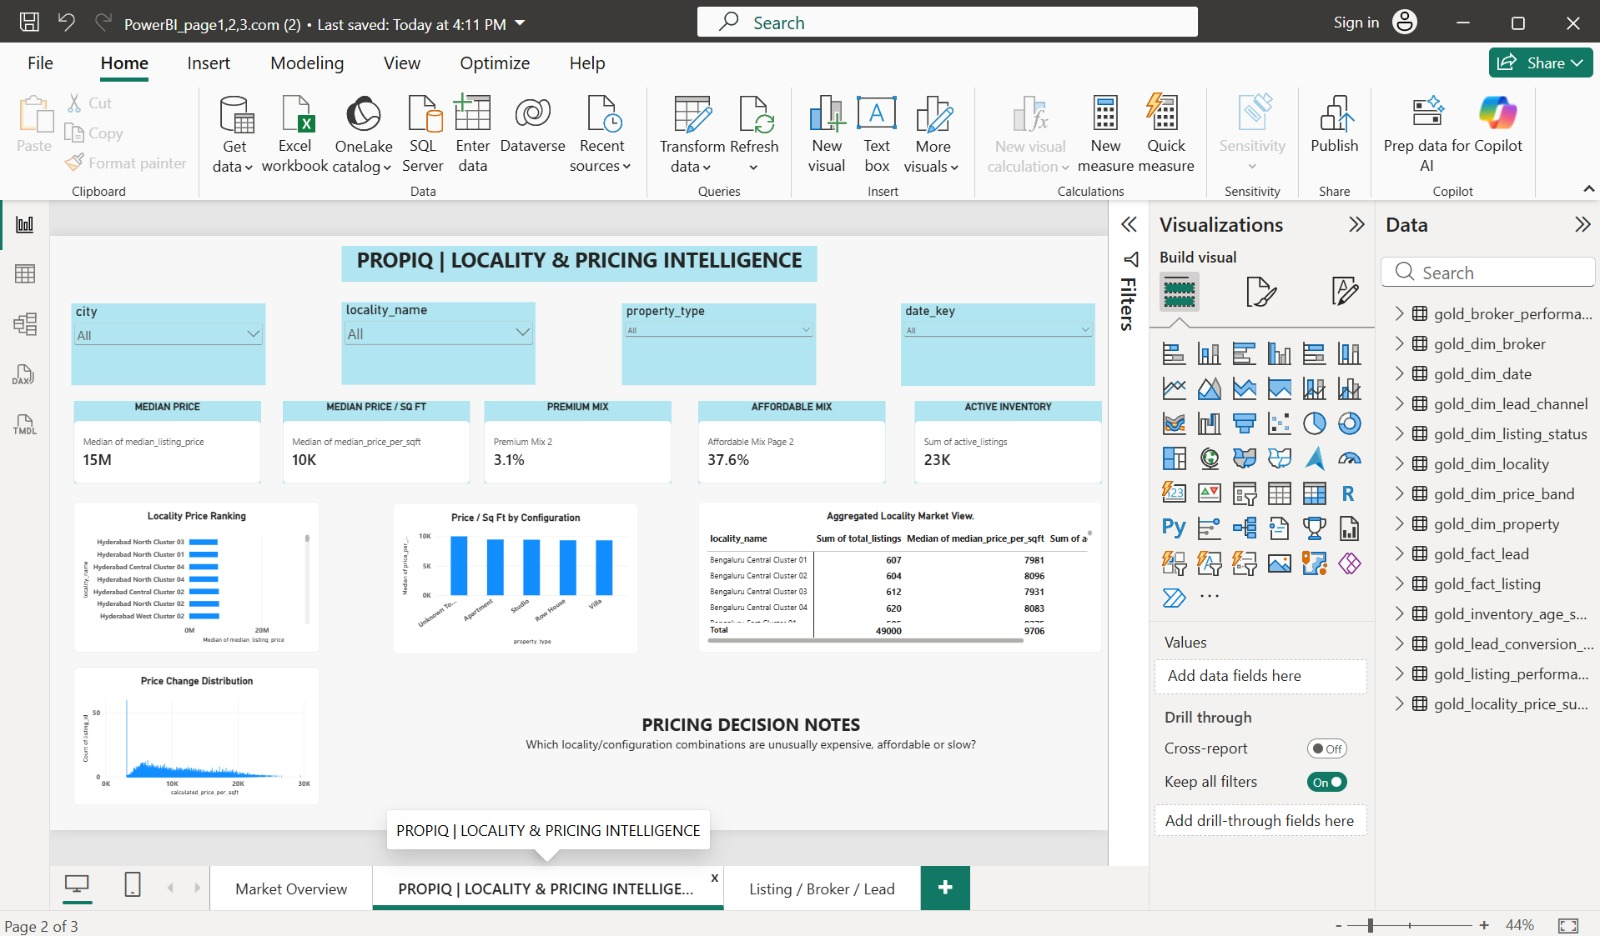

The dashboard page shown, as its layout file describes it:
{"tool":"powerbi","page":{"name":"PROPIQ | LOCALITY & PRICING INTELLIGENCE","canvas":[1920,1080],"ordinal":1},"visuals":[{"type":"textbox","box":[0,0,1920,74],"z":0},{"type":"slicer","fields":{"Values":["gold_dim_locality.city"]},"box":[38,123.1,352.4,148.7],"z":1000},{"type":"slicer","fields":{"Values":["gold_dim_locality.locality_name"]},"box":[528.4,121.2,352,150],"z":2000},{"type":"slicer","fields":{"Values":["gold_dim_property.property_type"]},"box":[1038.7,123.1,352.4,148.7],"z":3000},{"type":"slicer","fields":{"Values":["gold_dim_date.date_key"]},"box":[1543.6,123.1,352.9,150.2],"z":4000},{"type":"cardVisual","title":"MEDIAN PRICE","fields":{"Data":["Median(gold_locality_price_summary.median_listing_price)"]},"box":[43.4,300.4,340,150],"z":5000},{"type":"cardVisual","title":"MEDIAN PRICE / SQ FT","fields":{"Data":["Median(gold_locality_price_summary.median_price_per_sqft)"]},"box":[423.5,300.4,340,150],"z":6000},{"type":"cardVisual","title":"PREMIUM MIX","fields":{"Data":["gold_broker_performance_summary.Premium Mix 2"]},"box":[789,300.4,340,150],"z":7000},{"type":"cardVisual","title":"AFFORDABLE MIX","fields":{"Data":["gold_broker_performance_summary.Affordable Mix Page 2"]},"box":[1176.3,300.4,340,150],"z":8000},{"type":"cardVisual","title":"ACTIVE INVENTORY","fields":{"Data":["Sum(gold_locality_price_summary.active_listings)"]},"box":[1569,300.4,340,150],"z":9000},{"type":"clusteredBarChart","title":"Locality Price Ranking","fields":{"Category":["gold_dim_locality.locality_name"],"Y":["Median(gold_locality_price_summary.median_listing_price)"]},"box":[43.4,483.2,445.2,272.6],"z":10000},{"type":"clusteredColumnChart","title":"Price / Sq Ft by Configuration","fields":{"Category":["gold_dim_property.property_type"],"Y":["Median(gold_fact_listing.price_per_sqft)"]},"box":[622.5,485,445.2,273.3],"z":11000},{"type":"pivotTable","title":"Aggregated Locality Market View.","fields":{"Rows":["gold_dim_locality.locality_name"],"Values":["Sum(gold_locality_price_summary.total_listings)","Median(gold_locality_price_summary.median_price_per_sqft)","Sum(gold_locality_price_summary.active_listings)"]},"box":[1176.3,483.2,732.9,273.3],"z":12000},{"type":"clusteredColumnChart","title":"Price Change Distribution","fields":{"Category":["gold_fact_listing.calculated_price_per_sqft"],"Y":["CountNonNull(gold_fact_listing.listing_id)"]},"box":[43.4,783.6,446,250.6],"z":13000},{"type":"textbox","box":[826,866,894,138],"z":14000}]}

Visuals, with their boxes on the page's 1920x1080 design canvas (x1, y1, x2, y2). These are canvas units, not pixel positions in the 1600x936 screenshot, which may show the page scaled, cropped or inside an application window:
textbox: locate(0, 0, 1920, 74)
slicer - gold_dim_locality.city: locate(38, 123, 390, 272)
slicer - gold_dim_locality.locality_name: locate(528, 121, 880, 271)
slicer - gold_dim_property.property_type: locate(1039, 123, 1391, 272)
slicer - gold_dim_date.date_key: locate(1544, 123, 1896, 273)
"MEDIAN PRICE" cardVisual: locate(43, 300, 383, 450)
"MEDIAN PRICE / SQ FT" cardVisual: locate(424, 300, 764, 450)
"PREMIUM MIX" cardVisual: locate(789, 300, 1129, 450)
"AFFORDABLE MIX" cardVisual: locate(1176, 300, 1516, 450)
"ACTIVE INVENTORY" cardVisual: locate(1569, 300, 1909, 450)
"Locality Price Ranking" clusteredBarChart: locate(43, 483, 489, 756)
"Price / Sq Ft by Configuration" clusteredColumnChart: locate(622, 485, 1068, 758)
"Aggregated Locality Market View." pivotTable: locate(1176, 483, 1909, 756)
"Price Change Distribution" clusteredColumnChart: locate(43, 784, 489, 1034)
textbox: locate(826, 866, 1720, 1004)
